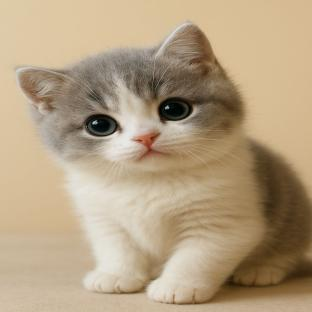Animal: (15, 22, 312, 304)
